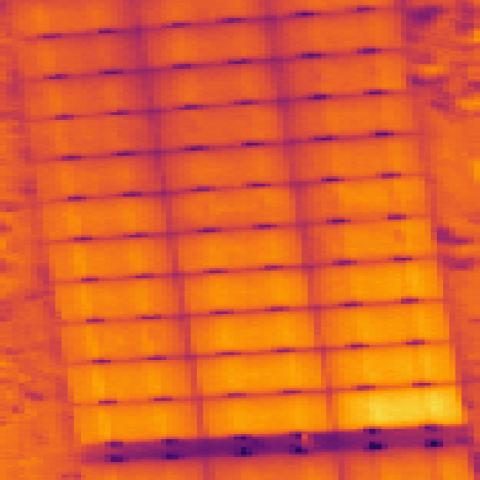fault: (343, 392, 456, 422)
